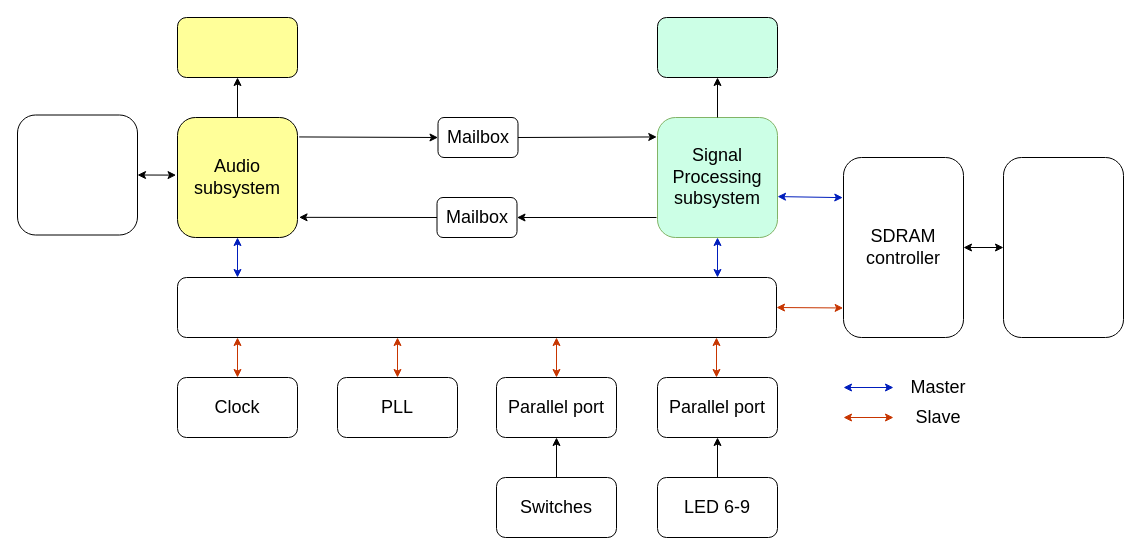
The diagram is 1141 pixels wide and 555 high, and some of its shapes have lost their labels. The shapes that lost their labels are listed below. From the top down, each one's box as (x1, y1, x2, y2) in pixels, then its label:
(176, 16, 298, 78): LED 0-2
(656, 16, 778, 78): LED 3-5
(16, 114, 138, 235): Wolfson CODEC
(1002, 156, 1124, 338): SDRAM
(176, 276, 776, 338): Common Avalon bus
